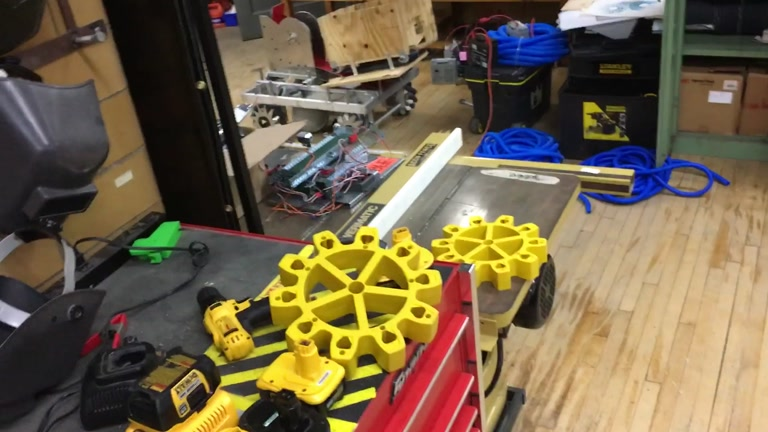gear: (267, 226, 442, 381), (430, 213, 548, 291)
